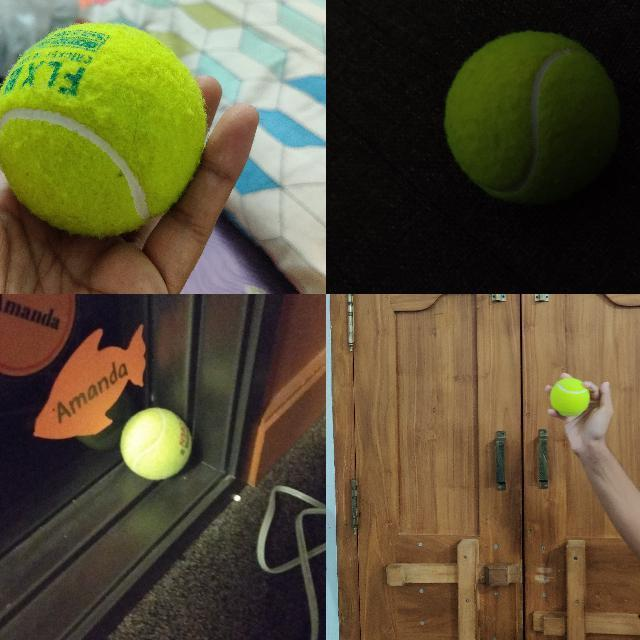tennis-ball: (0, 23, 206, 239), (444, 32, 620, 205), (119, 407, 193, 481), (550, 377, 591, 417)
